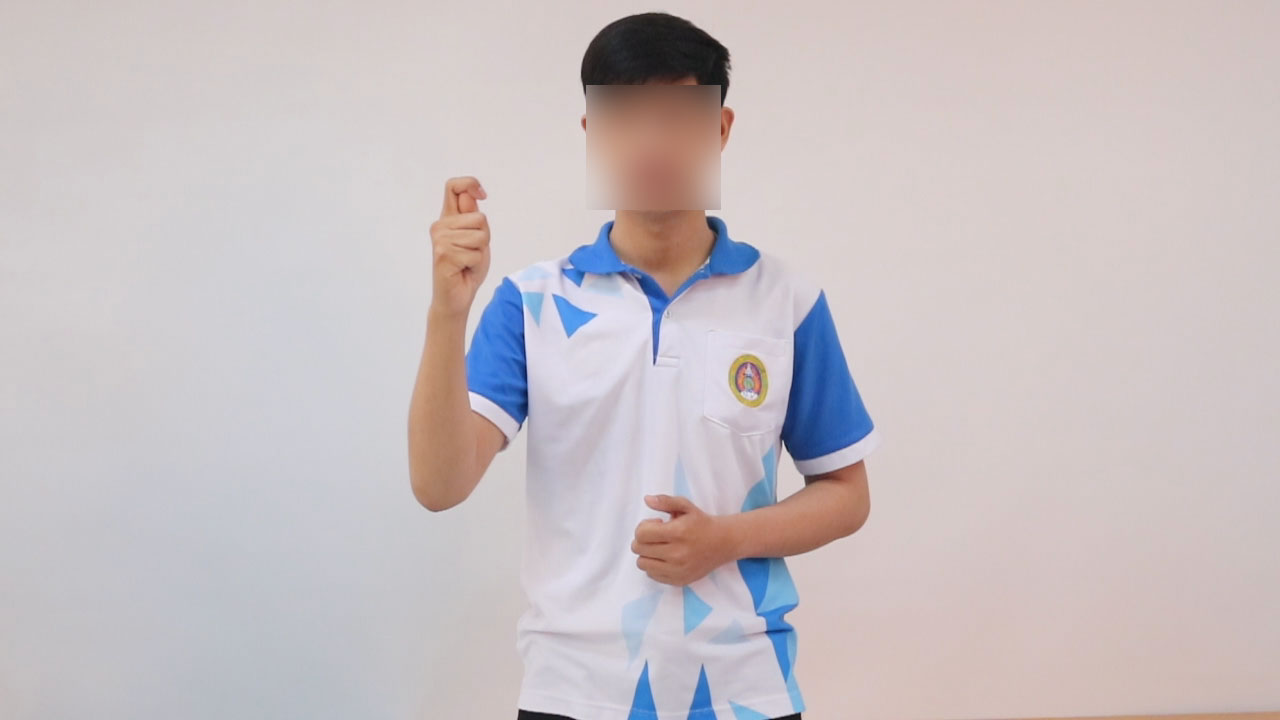or: (424, 171, 501, 318)
